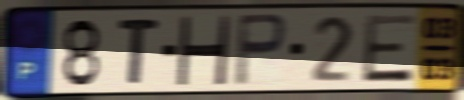2: (309, 14, 356, 84)
8: (61, 17, 101, 88)
E: (359, 12, 419, 85)
H: (173, 14, 233, 87)
P: (232, 11, 290, 89)
T: (116, 16, 163, 87)
